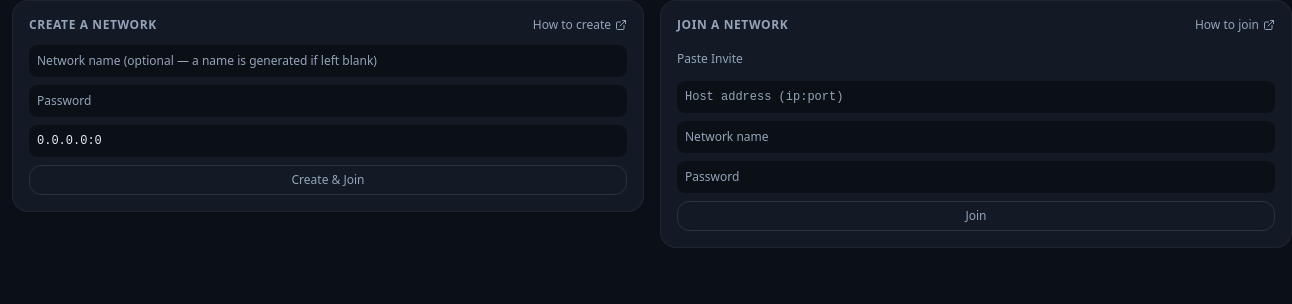
Test case: VirtualNetworkPanel — not in any network › shows an inline error when create_network rejects
Type "party" into the field with test id "vn-create-name" at (328, 61), box [29,45,627,77]
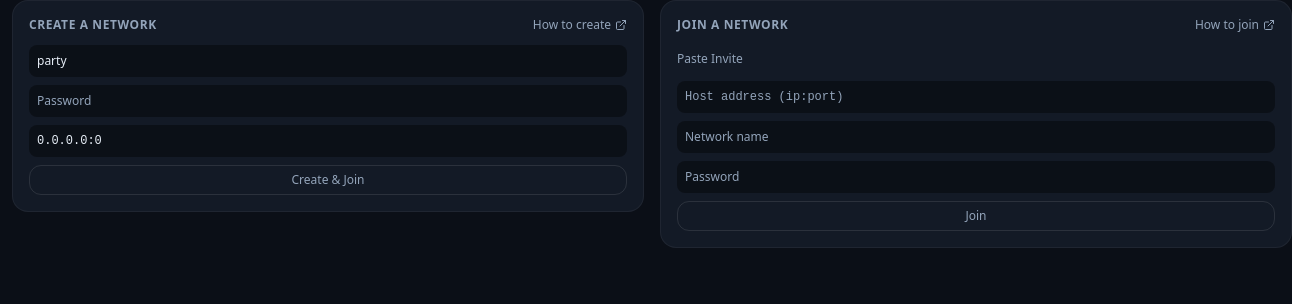
Type "secret" into the password field with test id "vn-create-password" at (328, 101), box [29,85,627,117]
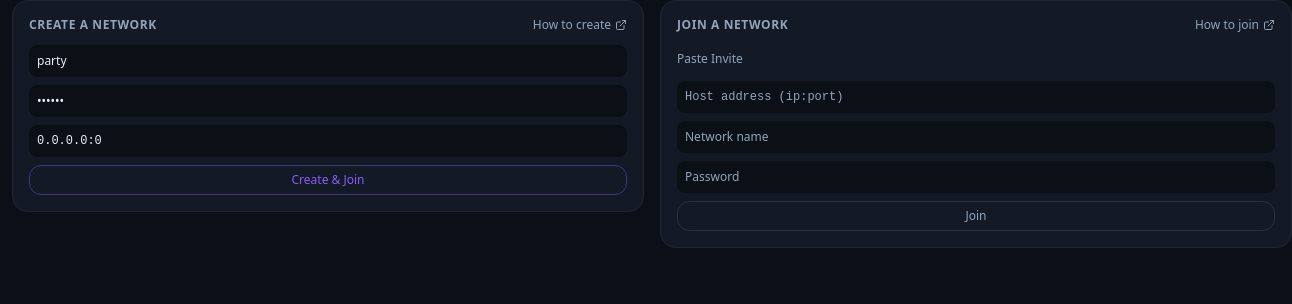
Click the button with test id "vn-create-btn" at (328, 180), box [29,165,627,195]
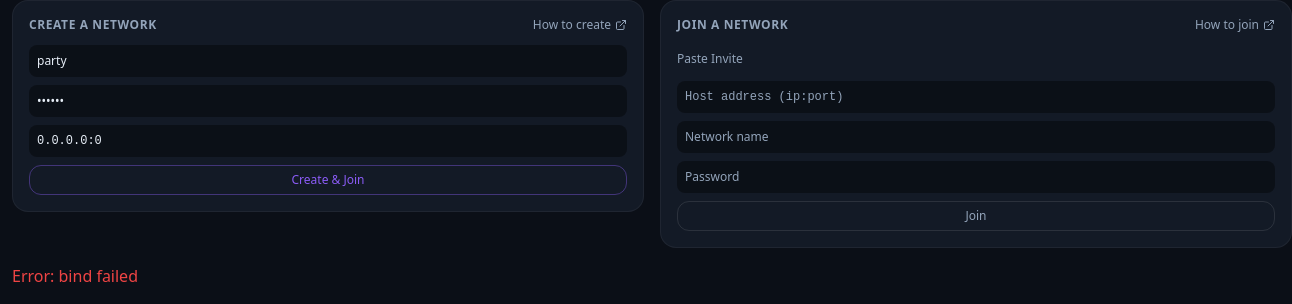
Expected: the text with test id "vn-error" shows "bind failed", [12,265,138,287]
